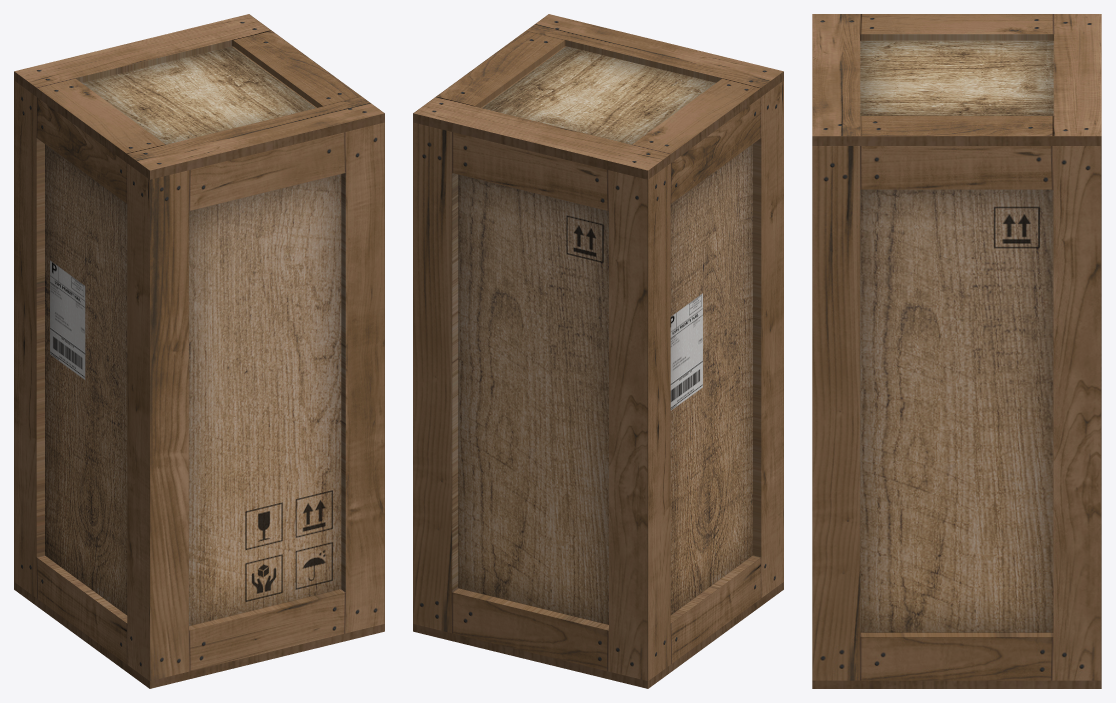
File: shipping_box0.glb
3 views of the same model, side by side, from view 1: azimuth 30°, elevation 25°; view 2: azimuth 150°, elevation 25°; view 3: azimuth 270°, elevation 25° (orthographic). The views are drawn at different scales.
Parts seen in each view (by area): view 1: Object_6; view 2: Object_6; view 3: Object_6.
Part boxes in pixels (x1=…): Object_6: x1=14, y1=14, x2=384, y2=688; Object_6: x1=413, y1=14, x2=783, y2=688; Object_6: x1=812, y1=14, x2=1101, y2=688.
Size of the model in its own units: 4.05 by 8.54 by 4.05.
Materials: 4 (1 with a texture image).
